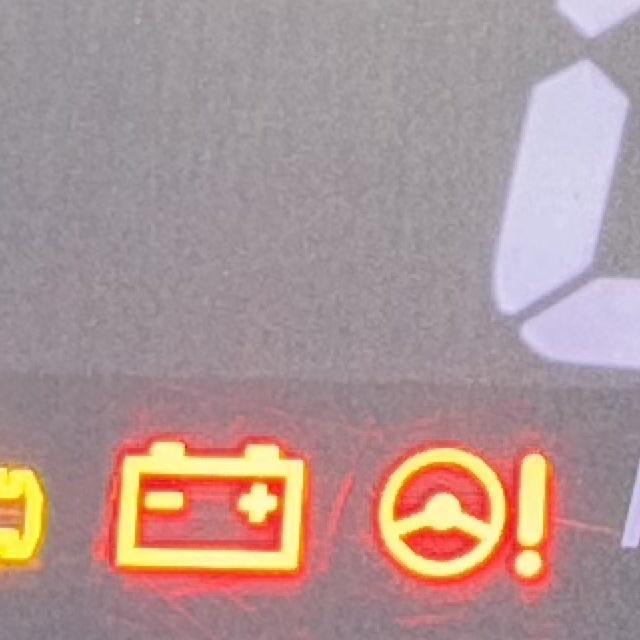Battery Issue: (105, 439, 311, 580)
Steering Wheel Locked: (374, 443, 562, 589)
